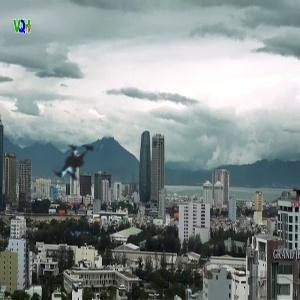drone: (30, 118, 122, 210)
